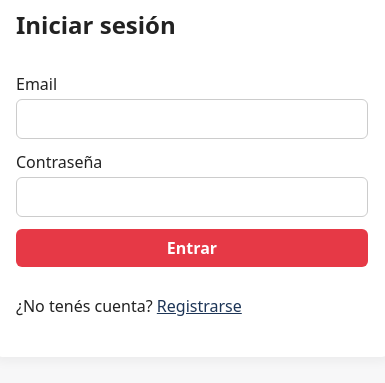
Test: <LoginPage> › muestra el mensaje de error y no navega si falla
This screenshot has width=385, height=383.
Type "ada@food.local" into the field labelled "Email".
click(192, 119); type("ada@food.local")  # box [16,99,368,139]
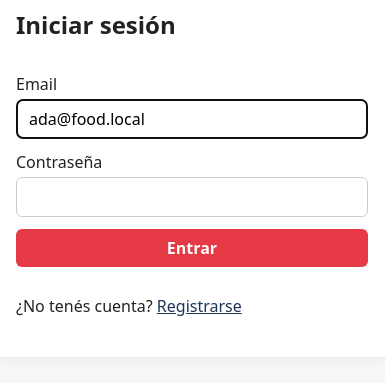
Type "pw12345678" into the password field labelled "Contraseña".
click(192, 197); type("pw12345678")  # box [16,177,368,217]
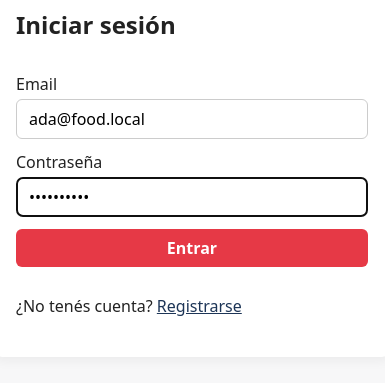
Click the button "Entrar".
click(192, 248)  # box [16,229,368,267]
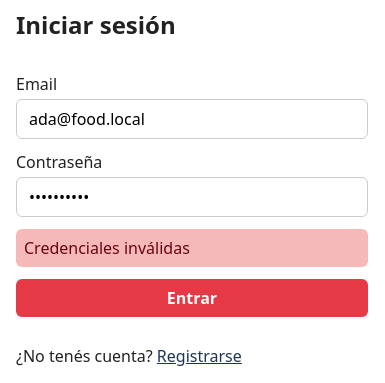
Expected: the text "Credenciales inválidas" is shown, [16,229,368,267]
